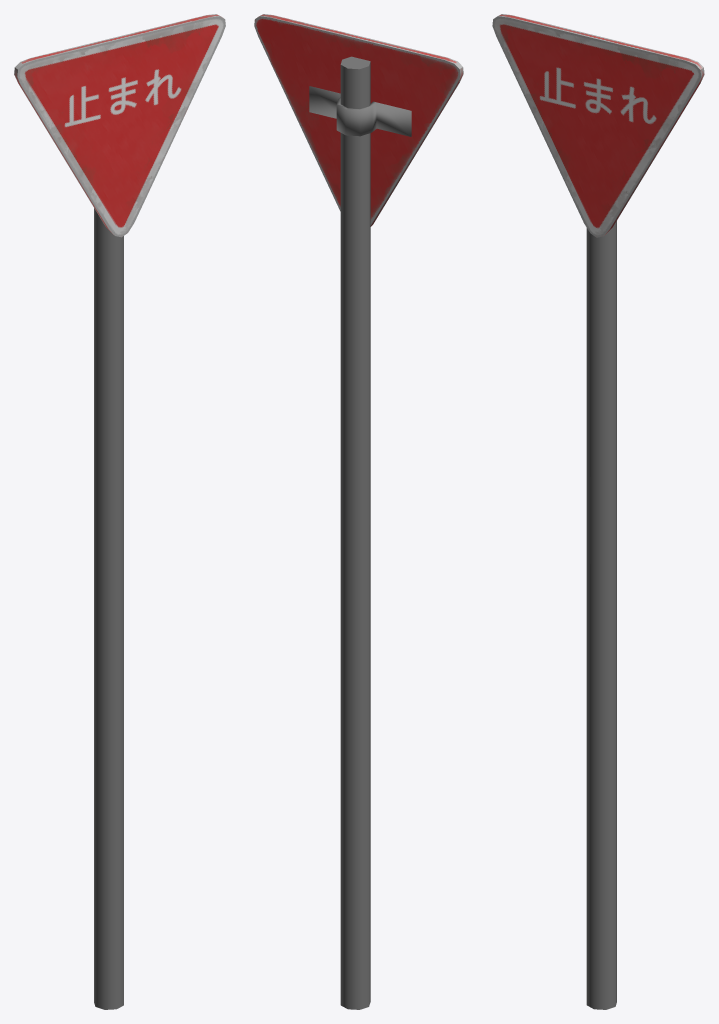
File: SM_sign_traffic_008.fbx
3 views of the same model, side by side, from view 1: azimuth 30°, elevation 25°; view 2: azimuth 150°, elevation 25°; view 3: azimuth 330°, elevation 25° (orthographic).
Parts seen in each view (by area): view 1: Object32692; view 2: Object32692; view 3: Object32692.
Part boxes in pixels (x1,y1,x2,y2): Object32692: [14, 14, 225, 1009]; Object32692: [254, 14, 463, 1009]; Object32692: [492, 14, 704, 1009].
Bounding box in the file's own units: 24.22 × 108 × 3.77.
